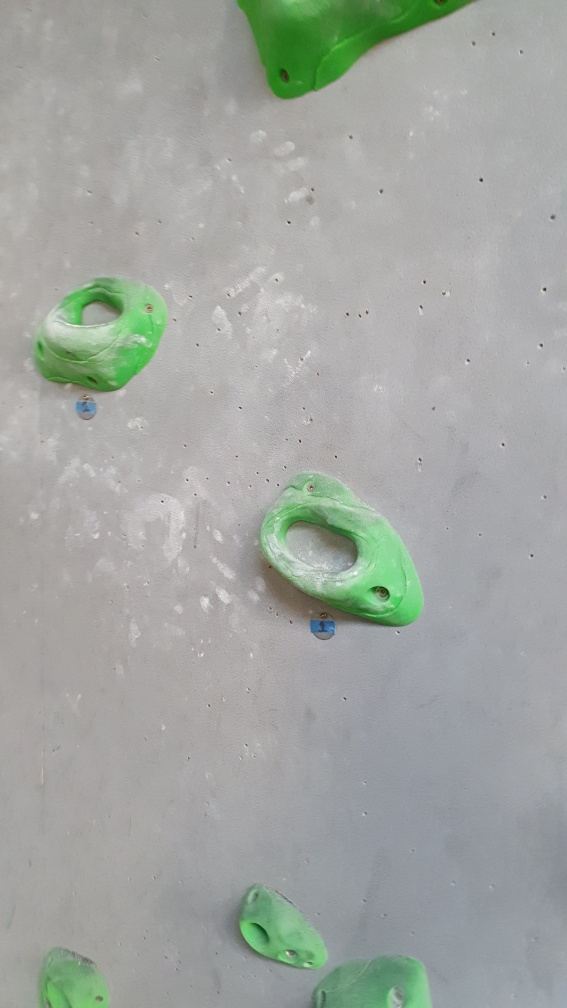Hand Start: (307, 612, 340, 643), (71, 393, 101, 423)
Pocket: (255, 464, 432, 627), (31, 274, 170, 396)
